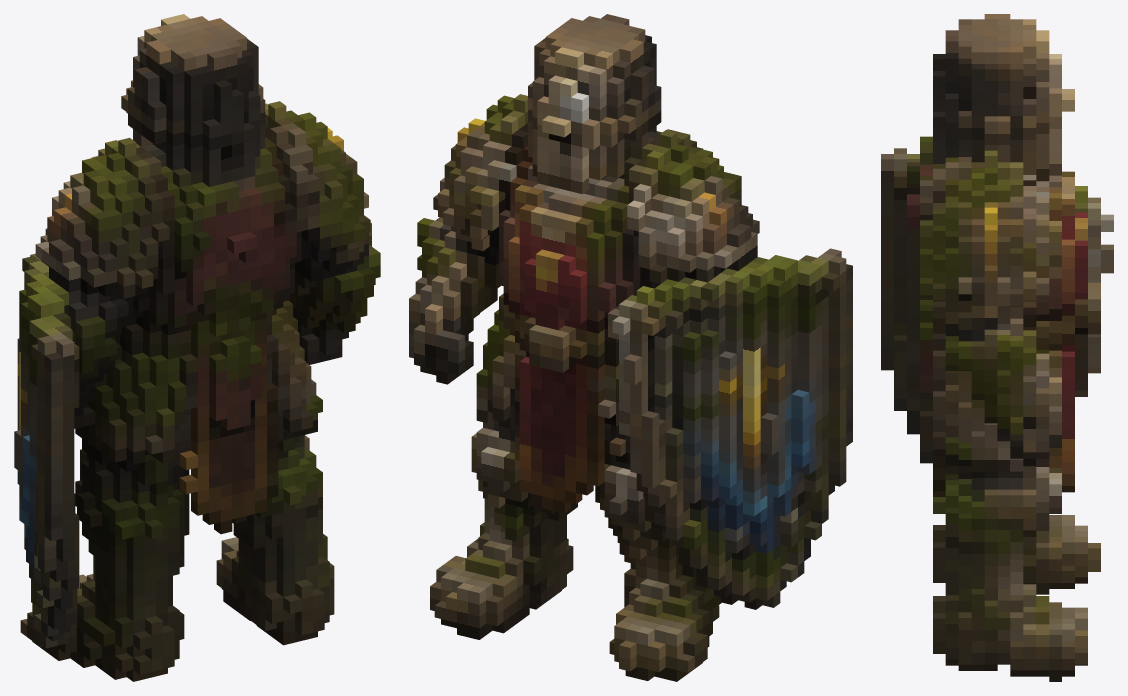
File: u_tenant.glb
3 views of the same model, side by side, from view 1: azimuth 30°, elevation 25°; view 2: azimuth 150°, elevation 25°; view 3: azimuth 270°, elevation 25° (orthographic). The views are drawn at different scales.
Visible parts, largest first — view 1: tenant_body; view 2: tenant_body; view 3: tenant_body.
Boxes of the visible parts, x1,y1,x2,y2 form: tenant_body: (14,14,380,681); tenant_body: (409,14,852,681); tenant_body: (881,14,1113,681).
Size of the model in its own units: 0.9281 by 1.41 by 0.5062.
Materials: 1 (1 with a texture image).
